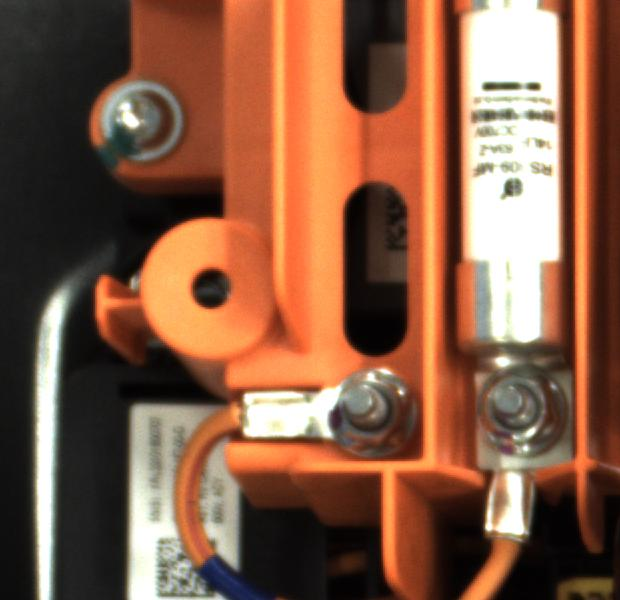screw_m: (83, 71, 194, 170)
screw_s: (471, 363, 576, 464), (323, 361, 413, 458)
